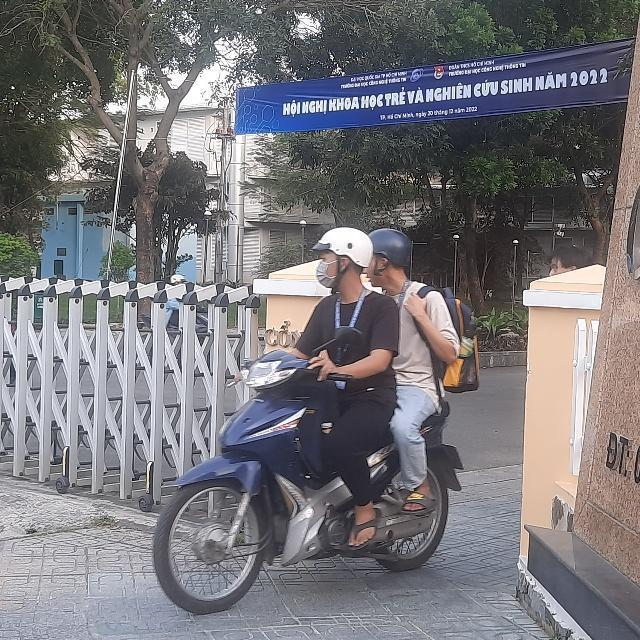Helmet: (361, 226, 417, 288), (314, 228, 370, 288)
